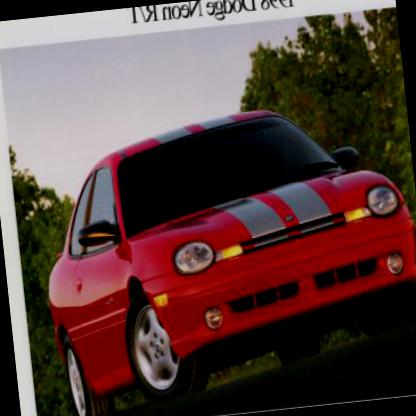car: (7, 92, 415, 415)
